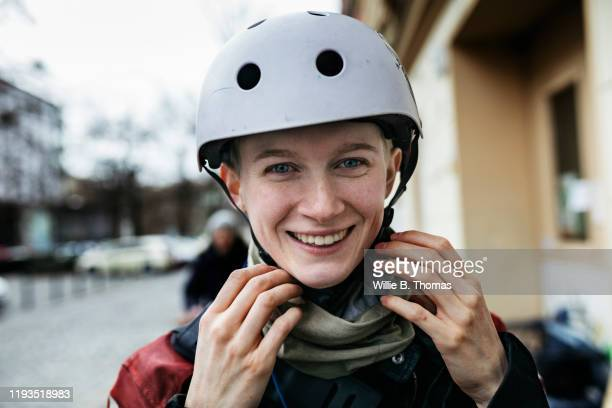helmet: (196, 10, 424, 288)
